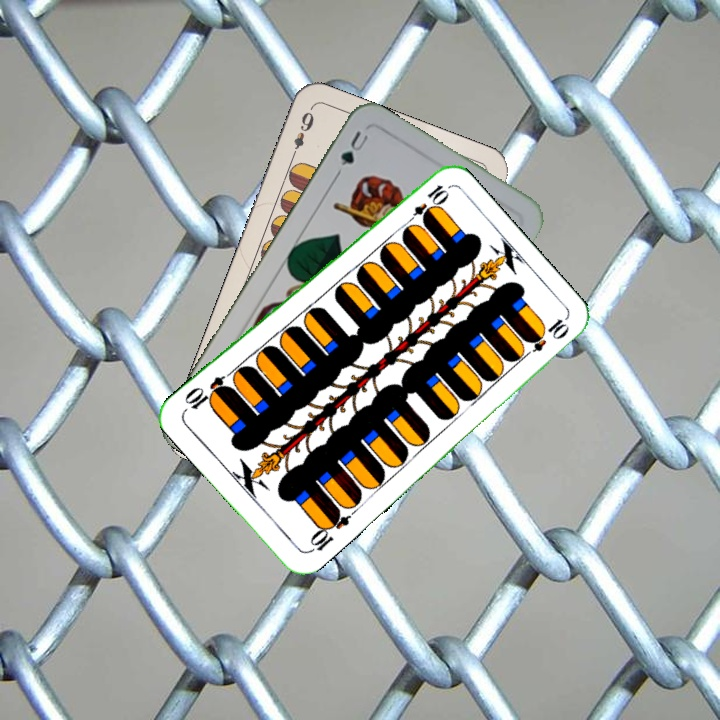E10: (401, 180, 451, 229), (304, 505, 352, 556)
E9: (287, 105, 317, 162)
GU: (336, 126, 371, 169)
